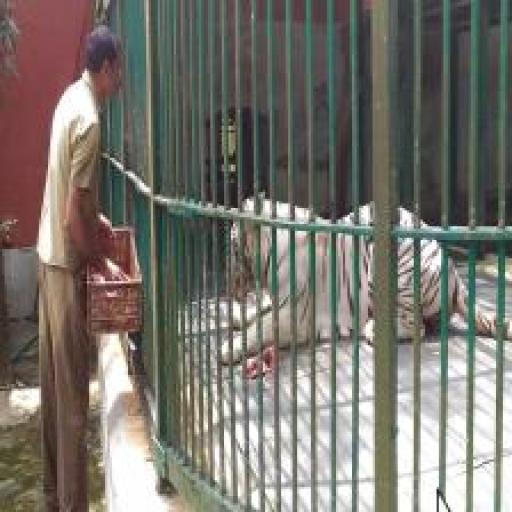Tiger: (219, 187, 512, 367)
